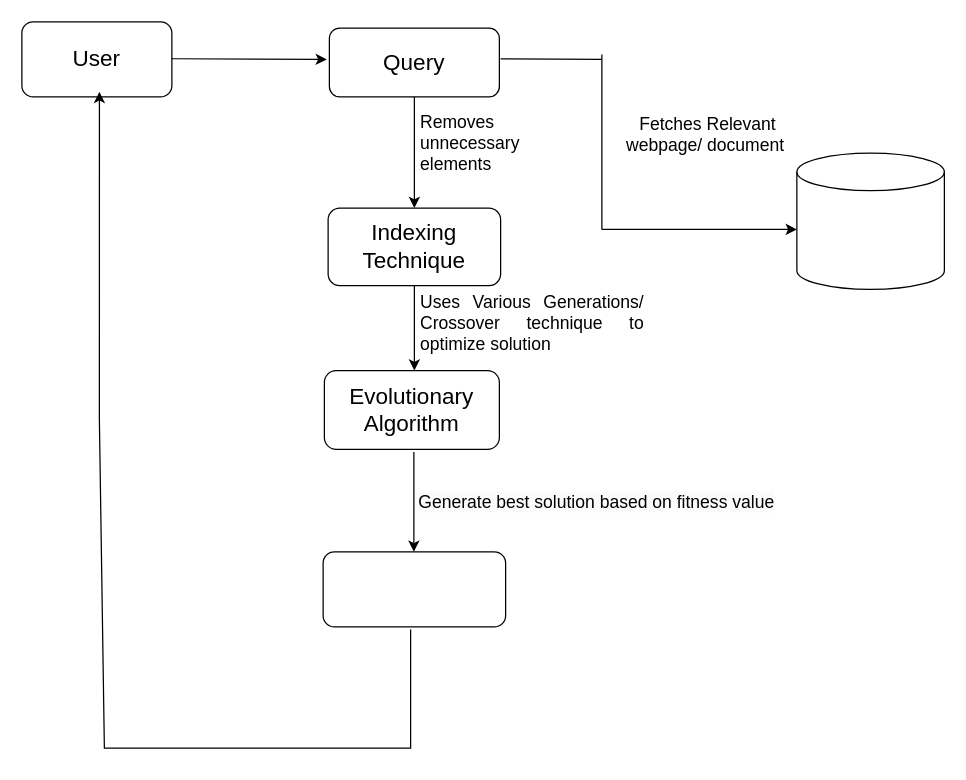
Some shapes in this 966 by 780 pixel diagram are drawn without their labels. Here are the shapes that lost their labels. From the top down, the centre of each, then its label:
At pixel 870 220: "Webkb Dataset".
At pixel 414 589: "Best Fitness Value Document".
